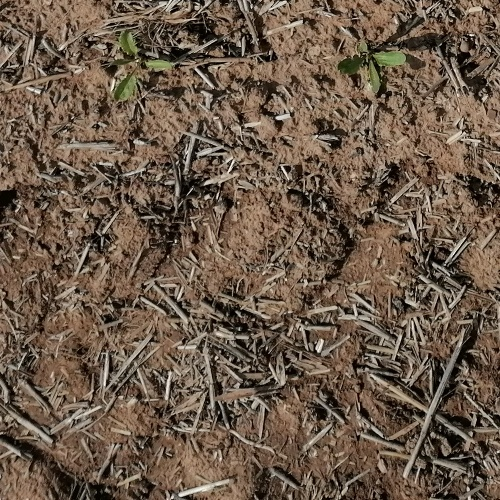beet: (111, 28, 177, 104), (338, 42, 406, 94)
